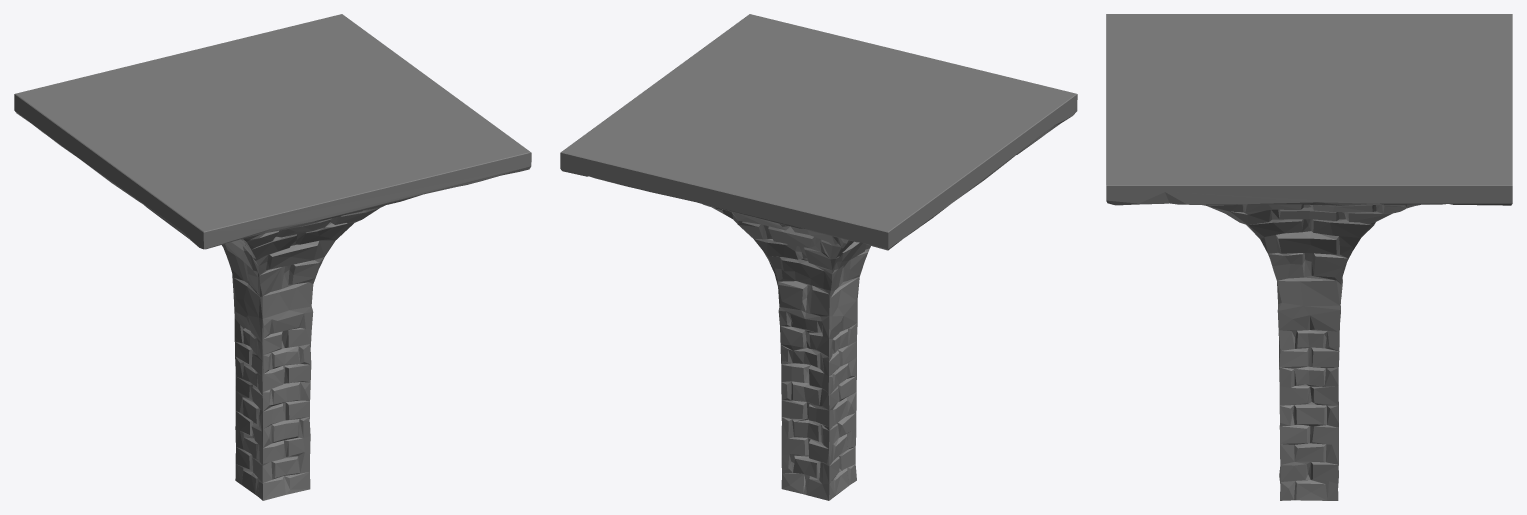
The model's file is modular_arch_b.FBX.
3 views of the same model, side by side, from view 1: azimuth 30°, elevation 25°; view 2: azimuth 150°, elevation 25°; view 3: azimuth 270°, elevation 25° (orthographic). The views are drawn at different scales.
Parts seen in each view (by area): view 1: modular_arch_b; view 2: modular_arch_b; view 3: modular_arch_b.
Boxes of the visible parts, x1,y1,x2,y2 form: modular_arch_b: (14,14,531,500); modular_arch_b: (560,14,1077,500); modular_arch_b: (1106,14,1512,500).
Bounding box in the file's own units: 9.01 × 9.5 × 9.
